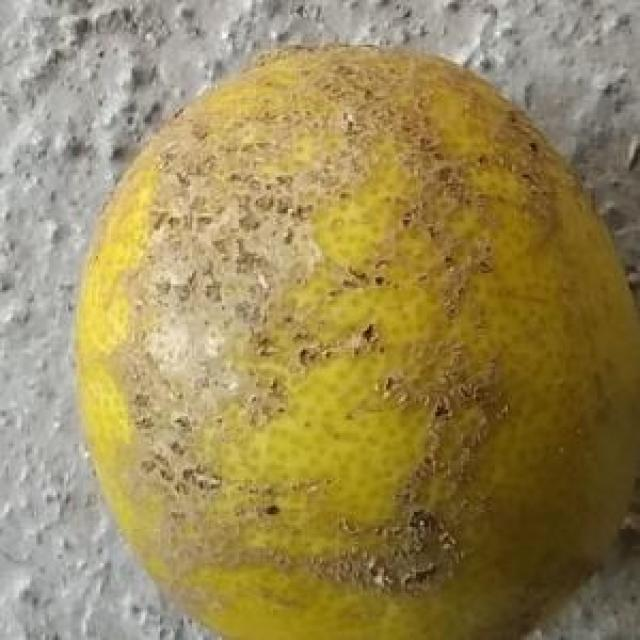lemon: (69, 37, 640, 640)
